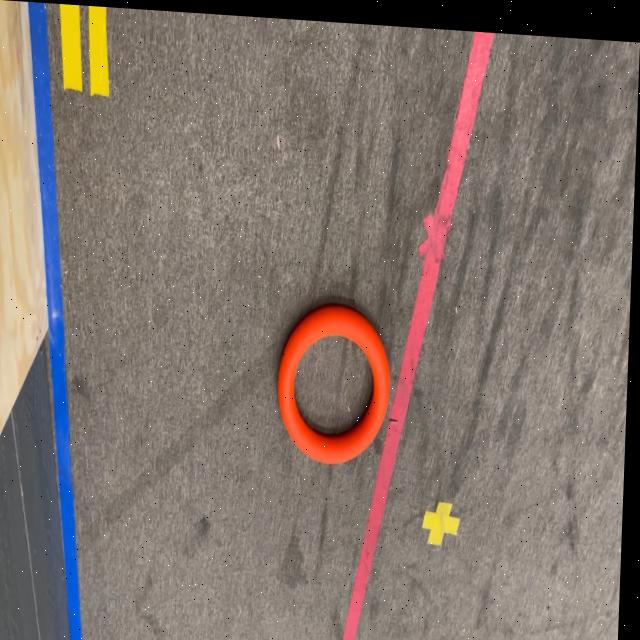note: (277, 296, 397, 464)
